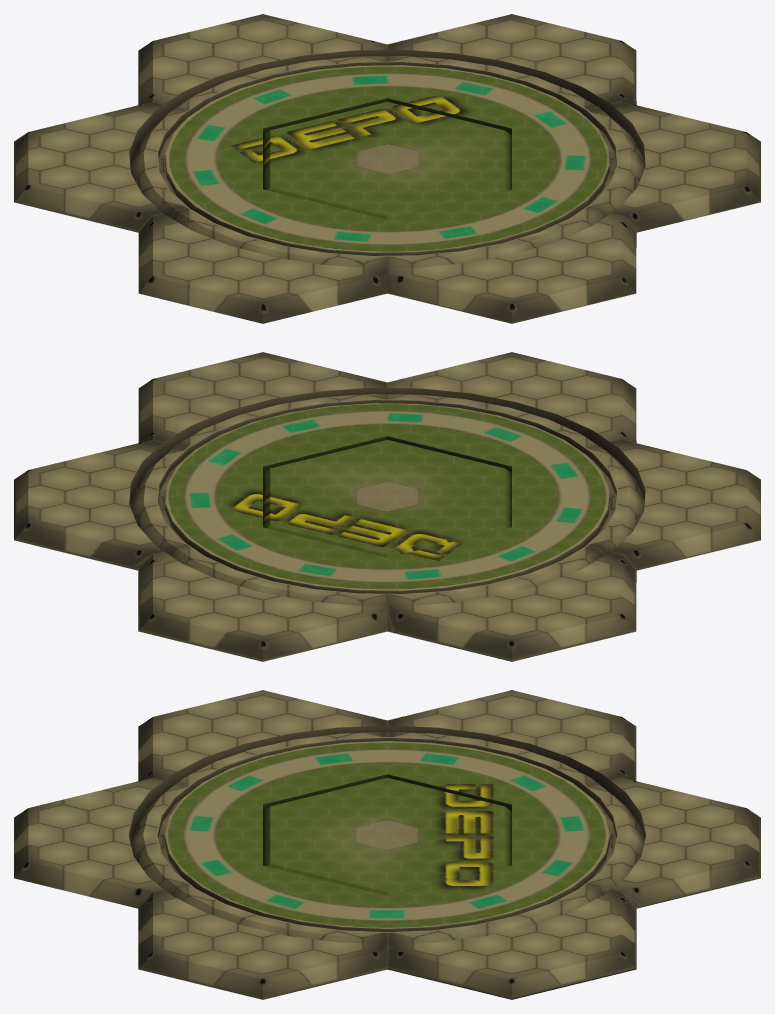
The model's file is depo.fbx.
3 renders of one model, top to bottom at view 1: azimuth 30°, elevation 25°; view 2: azimuth 150°, elevation 25°; view 3: azimuth 270°, elevation 25°, orthographic.
Visible parts, largest first — view 1: Circle.002; view 2: Circle.002; view 3: Circle.002.
Part boxes in pixels (x1=…): Circle.002: x1=14, y1=14, x2=760, y2=323; Circle.002: x1=14, y1=352, x2=760, y2=661; Circle.002: x1=14, y1=690, x2=760, y2=999.
Bounding box in the file's own units: 5 × 0.1 × 5.2.
